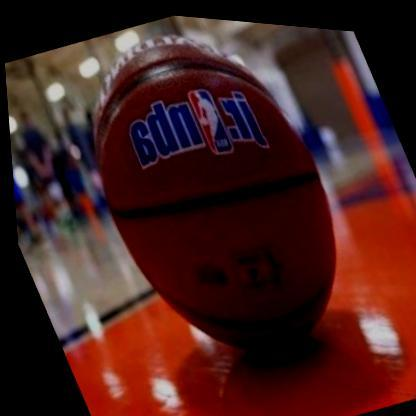basketball: (32, 2, 393, 406)
